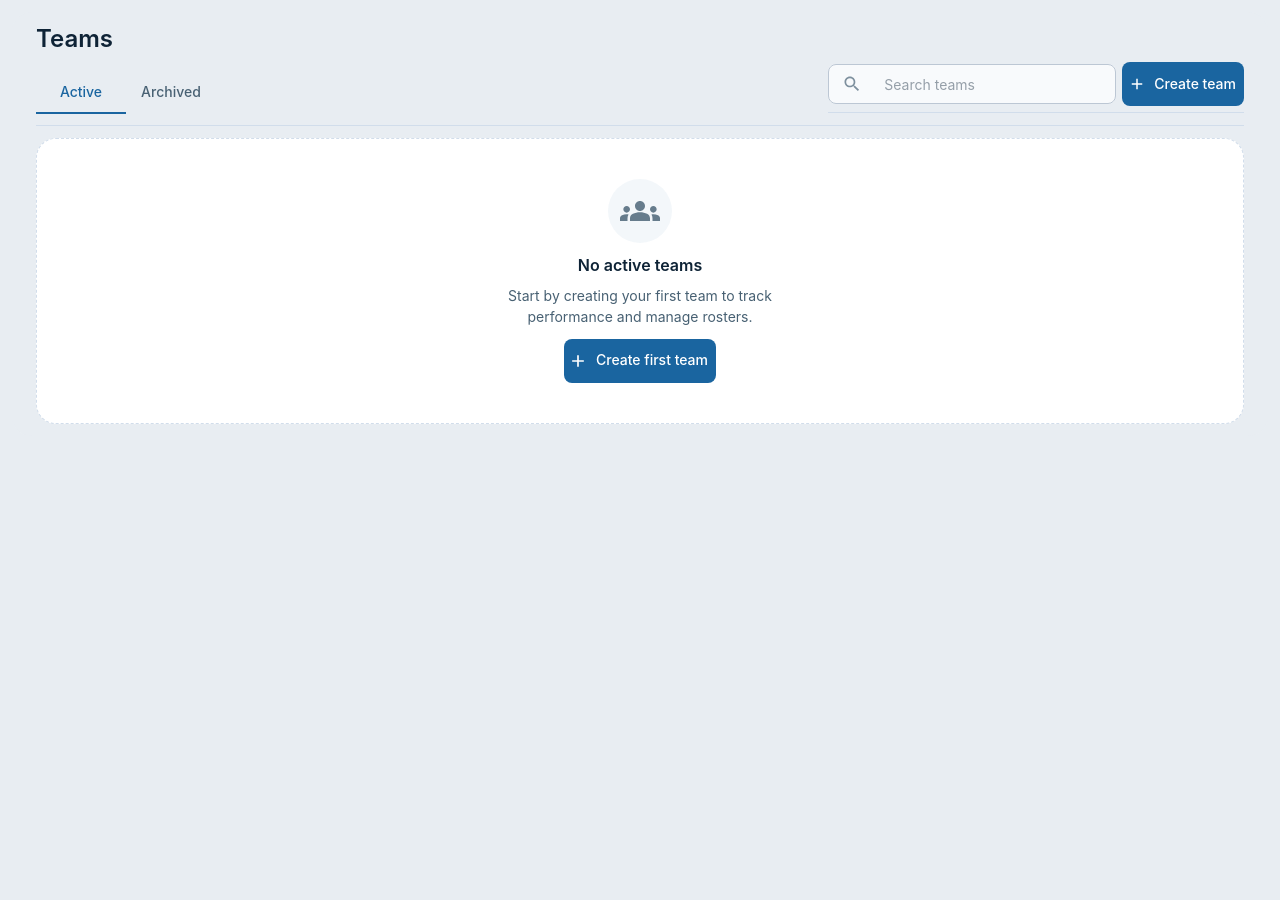
it: Teams Component › validates empty team name
Step 1. Click the button "Create first team" → (640, 361), box [564,339,716,383]
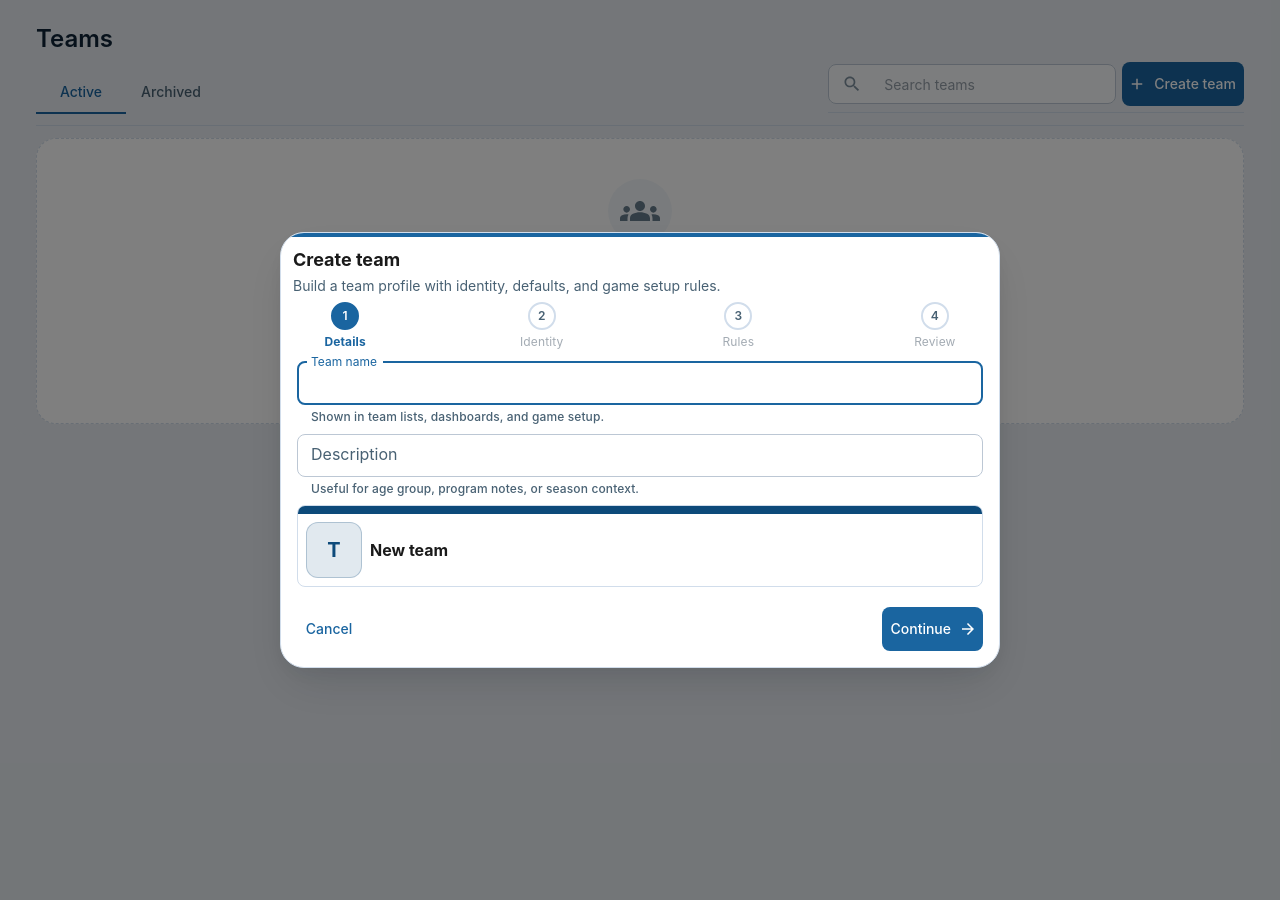
Expected: the button "Continue" is shown
Step 2. Click the button "Continue" → (933, 629), box [882,607,983,651]
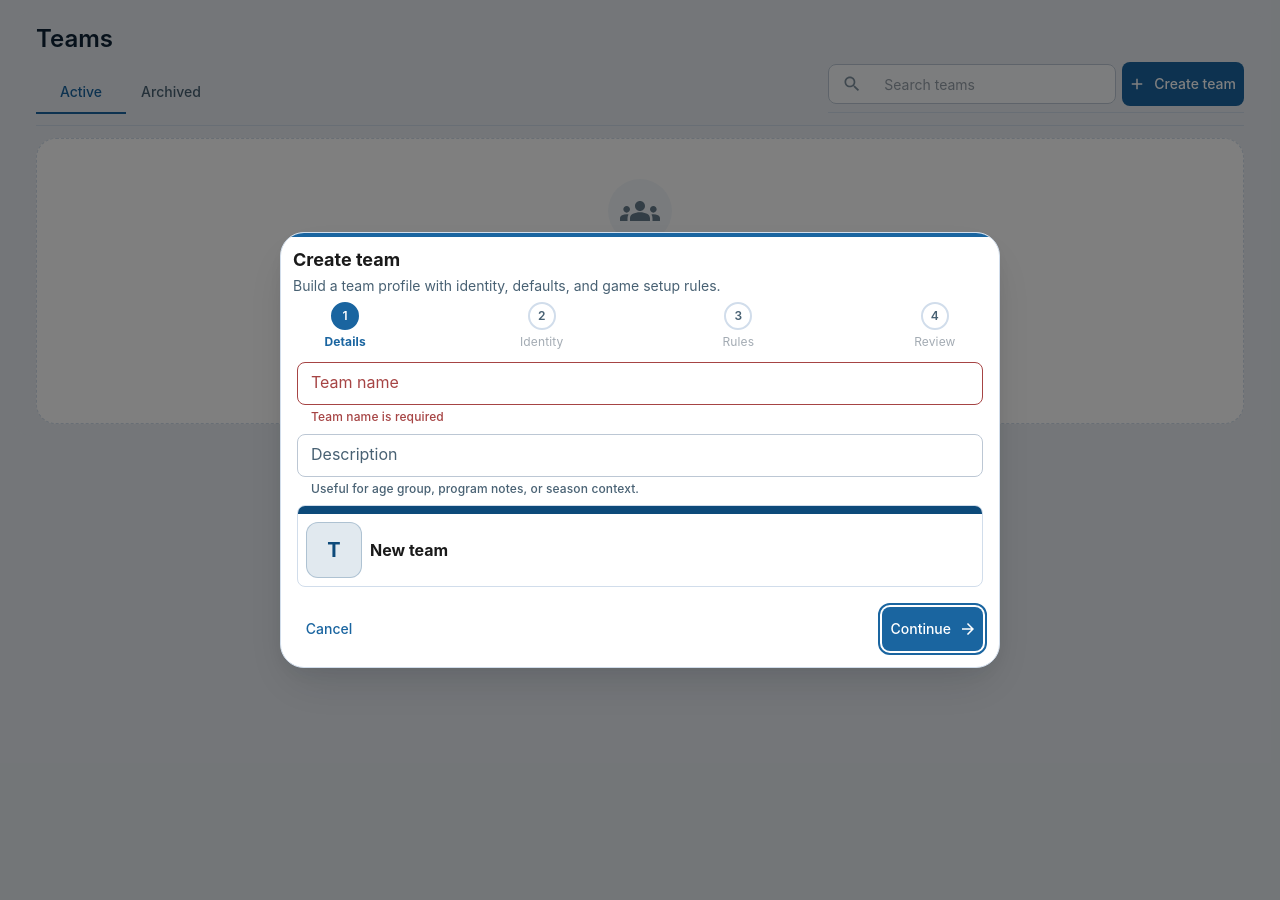
Expected: the text "Team name is required" is shown, [311,409,444,424]
